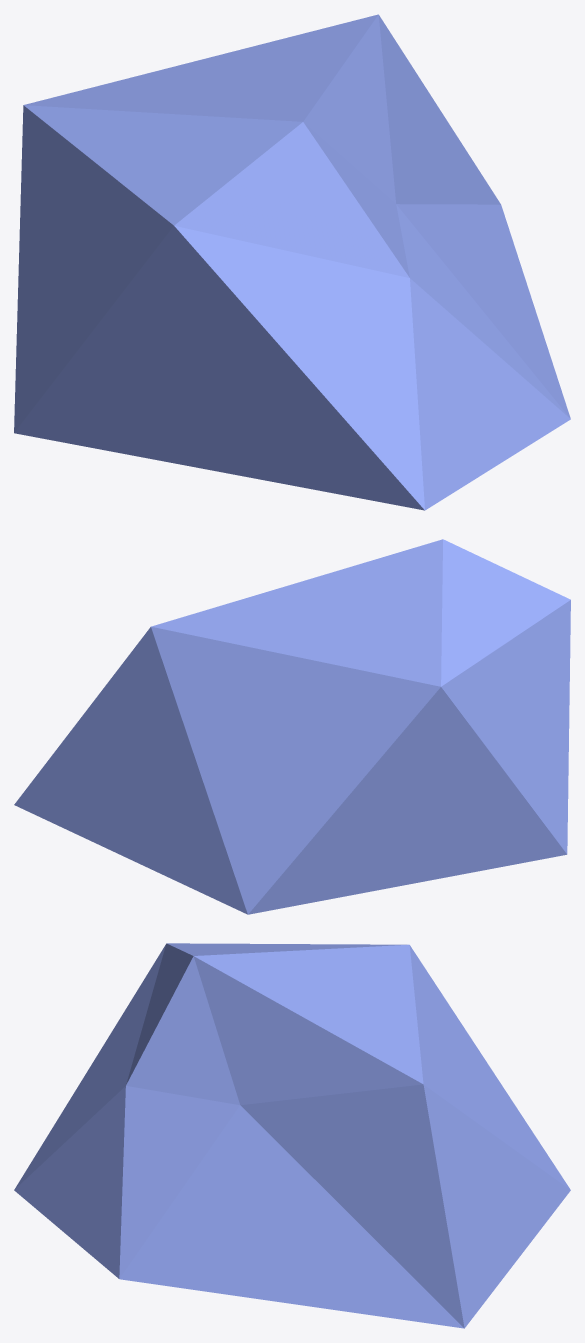
Rendered from rock_3.fbx.
3 renders of one model, top to bottom at view 1: azimuth 30°, elevation 25°; view 2: azimuth 150°, elevation 25°; view 3: azimuth 270°, elevation 25°, orthographic. The views are drawn at different scales.
Visible parts, largest first — view 1: Icosphere.009; view 2: Icosphere.009; view 3: Icosphere.009.
Part boxes in pixels (x1,y1,x2,y2): Icosphere.009: (14, 14, 570, 510); Icosphere.009: (14, 539, 570, 914); Icosphere.009: (14, 943, 570, 1328).
Bounding box in the file's own units: 18.65 × 17.74 × 8.92.
